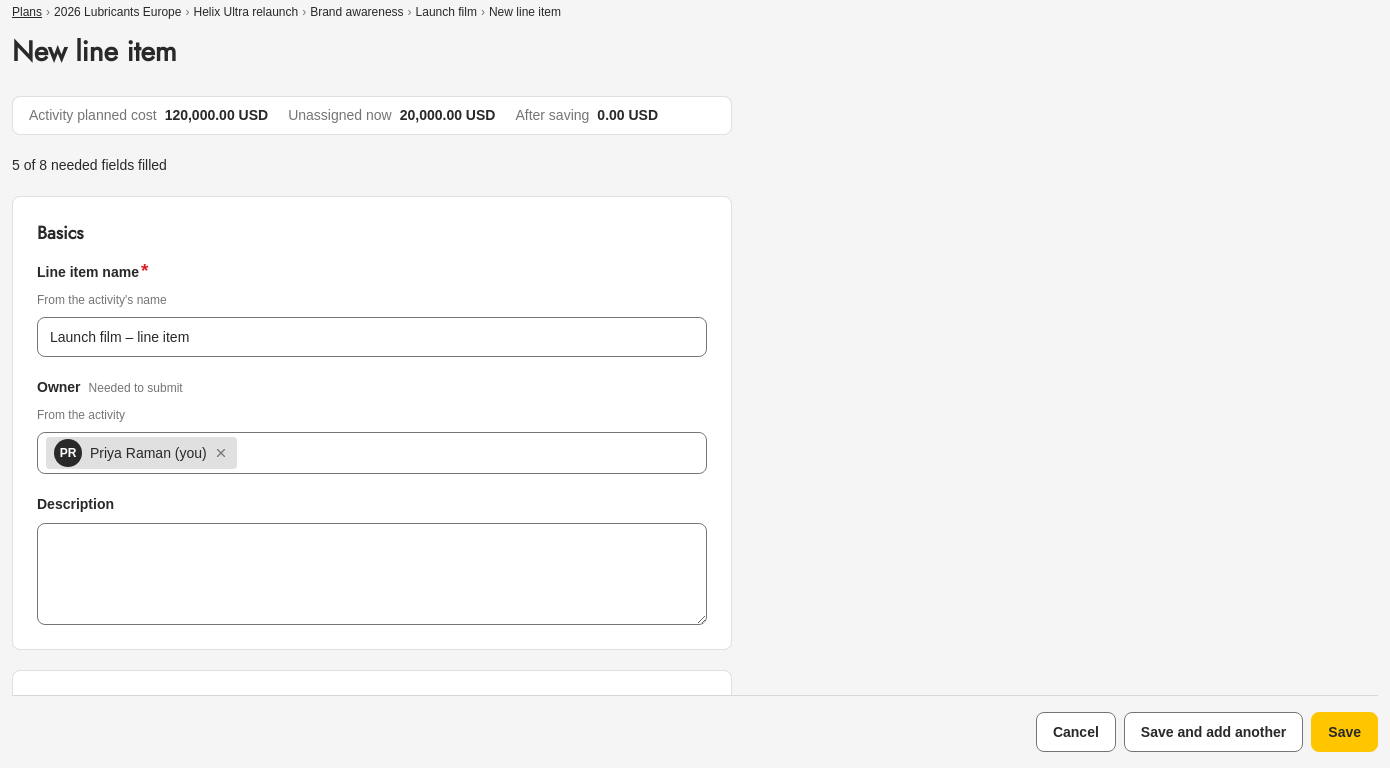
Test: LineItemCreatePage, saving (US2) › creates the line item, says so and returns to the activity with the row highlighted (scenario 6, FR-010, FR-023)
Step 1. Clear the field labelled "Line item name" → (372, 337), box [37,317,707,357]
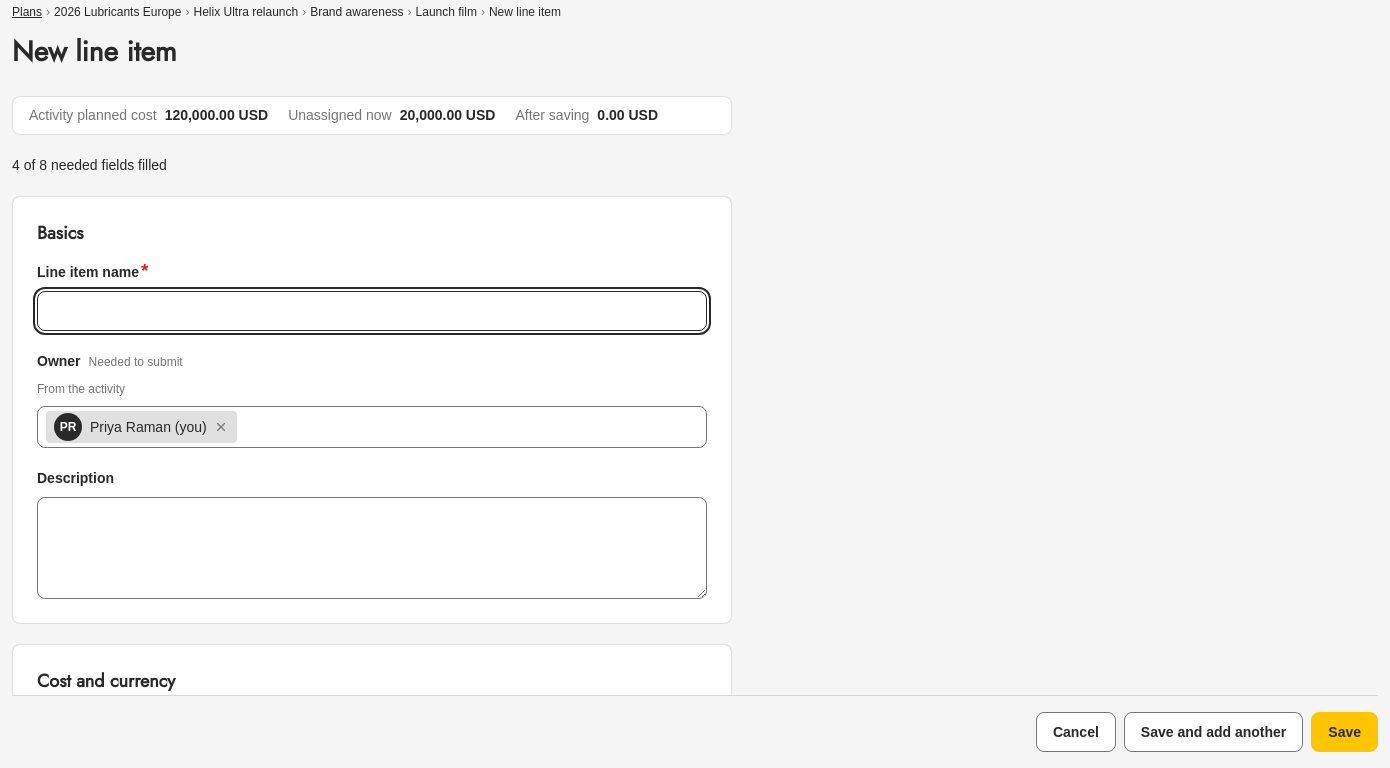
Step 2. Type "Agency fee" into the field labelled "Line item name" → (372, 311), box [37,291,707,331]
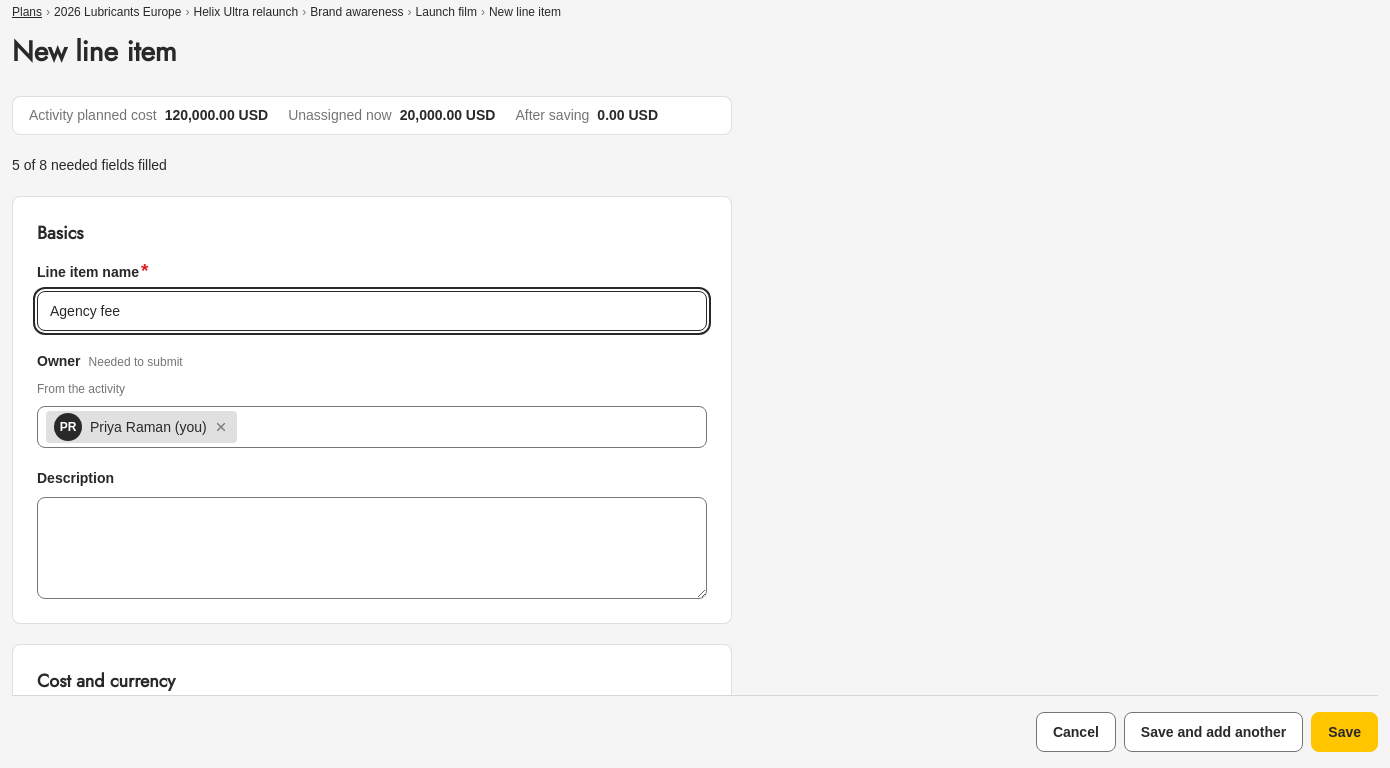
Step 3. Click the button "Save" → (1345, 732), box [1311,712,1378,752]
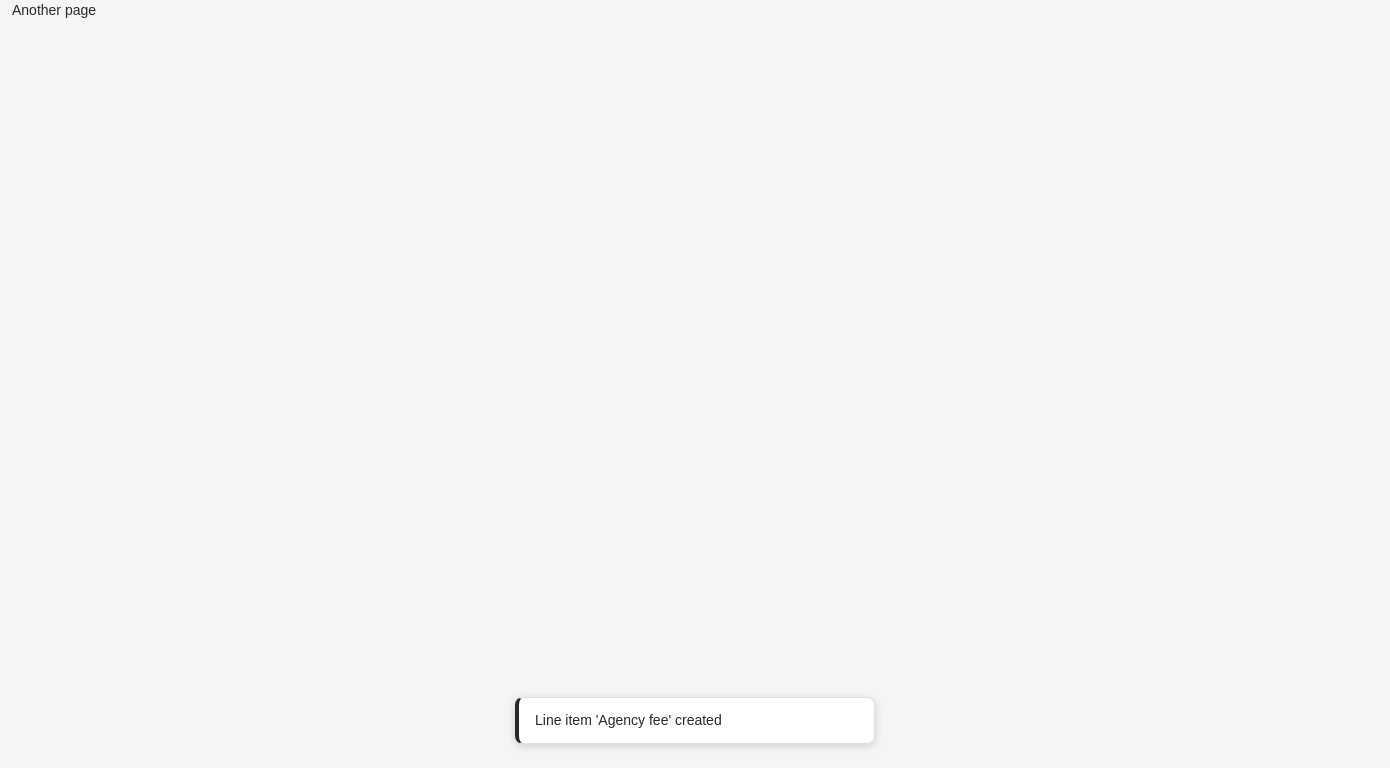
Now the text "Line item 'Agency fee' created" is shown, box [535,712,722,728]
